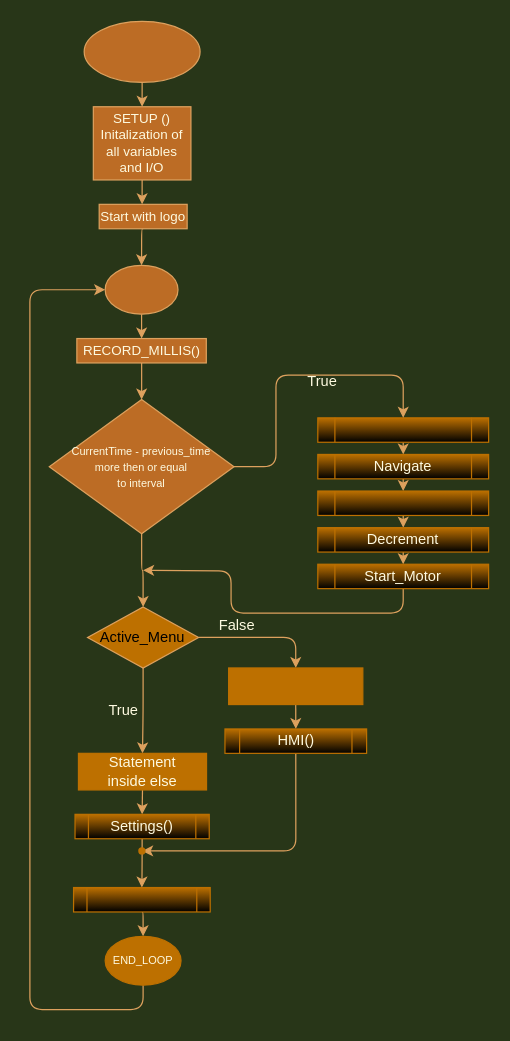
Some shapes in this 510 by 1041 pixel diagram are drawn without their labels. Each missing label, with the centre of its shape:
"Active_Settings" belongs at (x=403, y=429).
"Increment" belongs at (x=403, y=502).
"LOOP ()" belongs at (x=141, y=289).
"START" belongs at (x=141, y=51).
"Statements inside if" belongs at (x=295, y=686).
"STEPPER_MOTOR()" belongs at (x=141, y=899).
